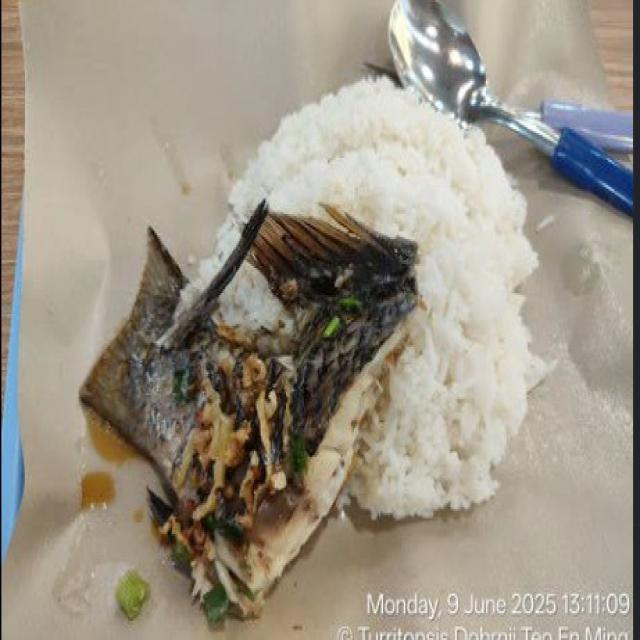Fish: (79, 200, 416, 615)
Rice: (182, 77, 550, 517), (219, 264, 292, 330)
